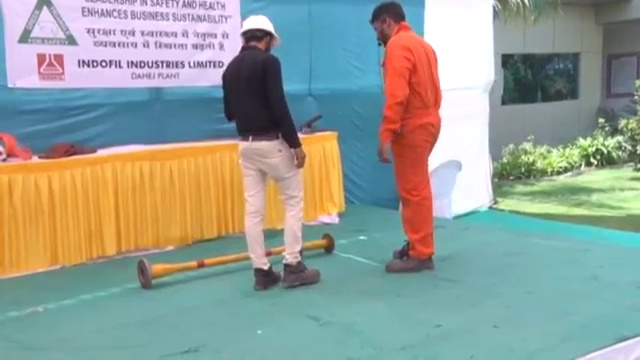helmet: (238, 13, 280, 44)
helmet_off: (369, 2, 408, 48)
helmet_on: (237, 11, 281, 53)
person: (222, 9, 325, 290), (367, 4, 443, 274)
